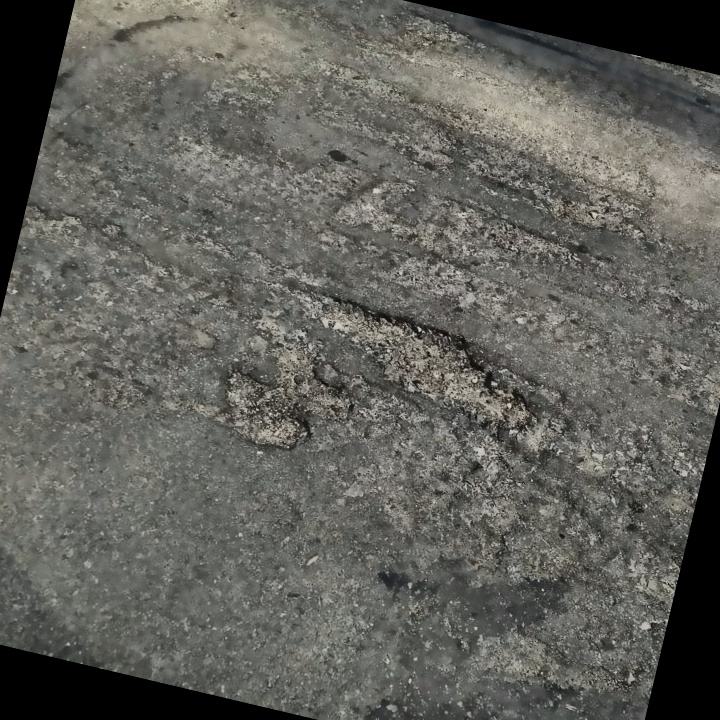pothole: (286, 286, 557, 437), (211, 365, 325, 458)
